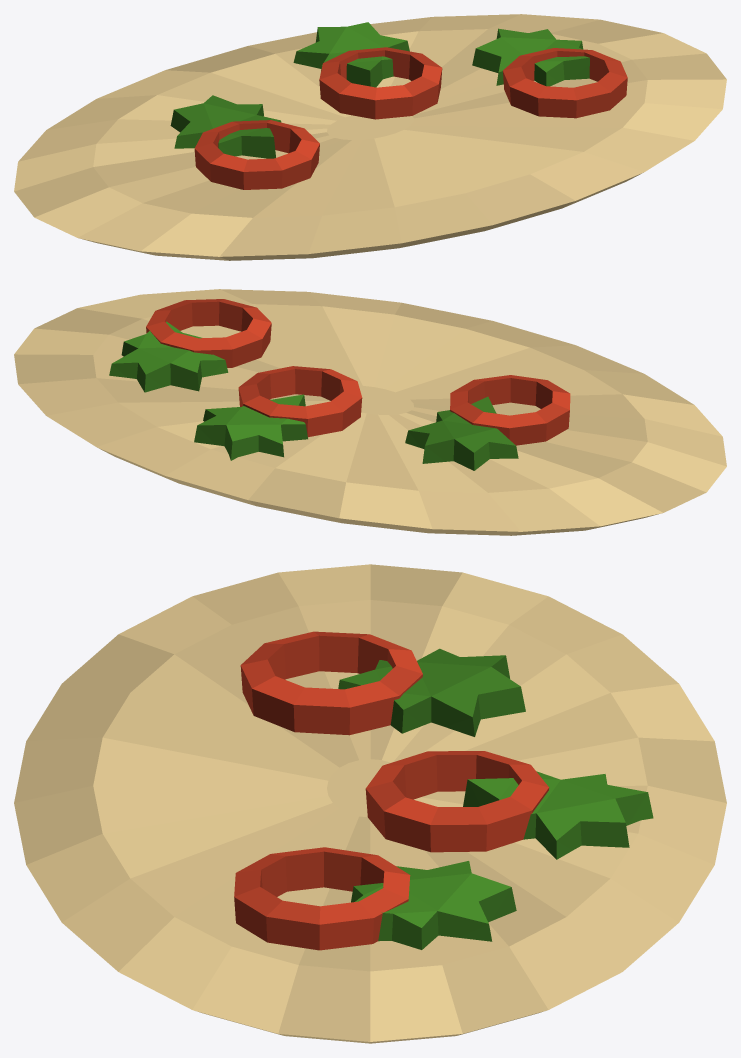
The model's file is ED_13_Chili_Herb_Butter.fbx.
3 renders of one model, top to bottom at view 1: azimuth 30°, elevation 25°; view 2: azimuth 150°, elevation 25°; view 3: azimuth 270°, elevation 25°, orthographic. The views are drawn at different scales.
Parts seen in each view (by area): view 1: ED_13_Chili_Herb_Butter; view 2: ED_13_Chili_Herb_Butter; view 3: ED_13_Chili_Herb_Butter.
Boxes of the visible parts, left/top/right/bottom form: ED_13_Chili_Herb_Butter: left=14, top=14, right=726, bottom=260; ED_13_Chili_Herb_Butter: left=14, top=289, right=726, bottom=535; ED_13_Chili_Herb_Butter: left=14, top=564, right=726, bottom=1043.
Bounding box in the file's own units: 1.17 × 0.083 × 0.738.
